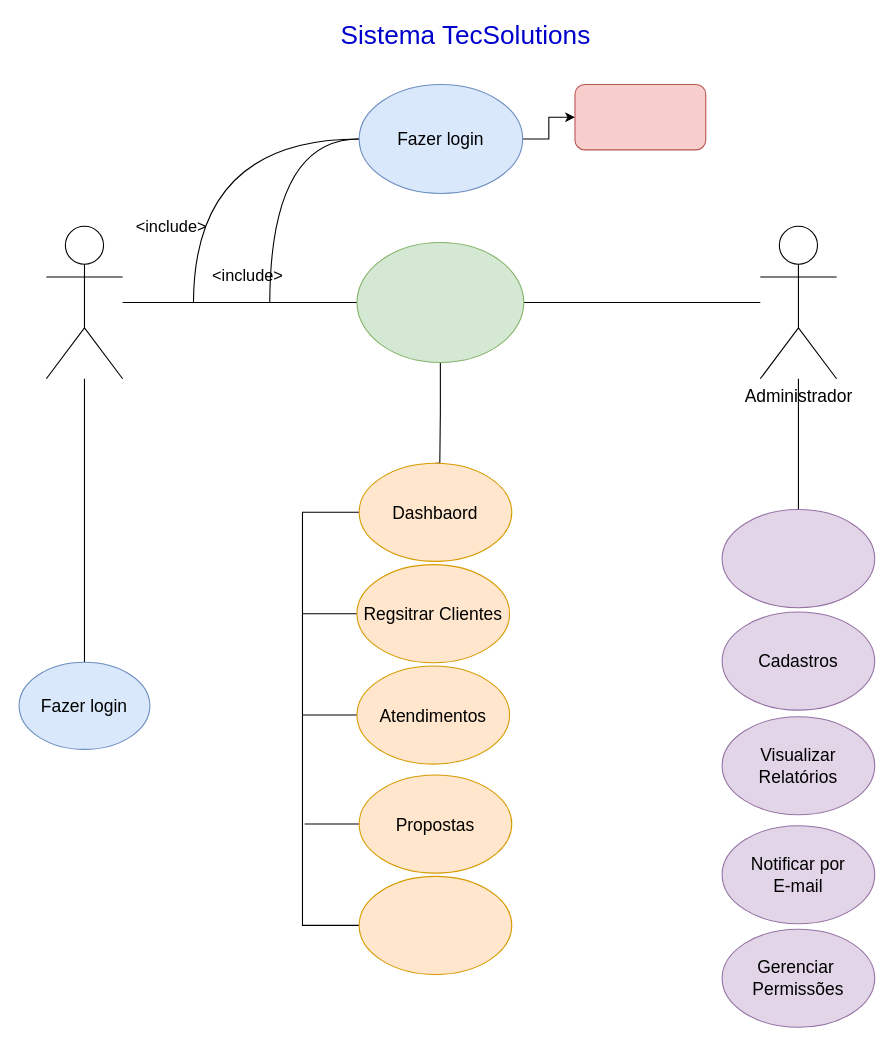
Some shapes in this 894 by 1046 pixel diagram are drawn without their labels. The box of each missing label's shape, as (x1, y1, x2, y2) in pixels:
Alterar Senha: (358, 875, 512, 974)
Exibir Erro de Login: (574, 83, 706, 150)
Gerencia Usuários: (721, 508, 875, 608)
Usuario: (45, 225, 123, 379)
Verificar Senha <<include>>: (356, 241, 524, 362)
